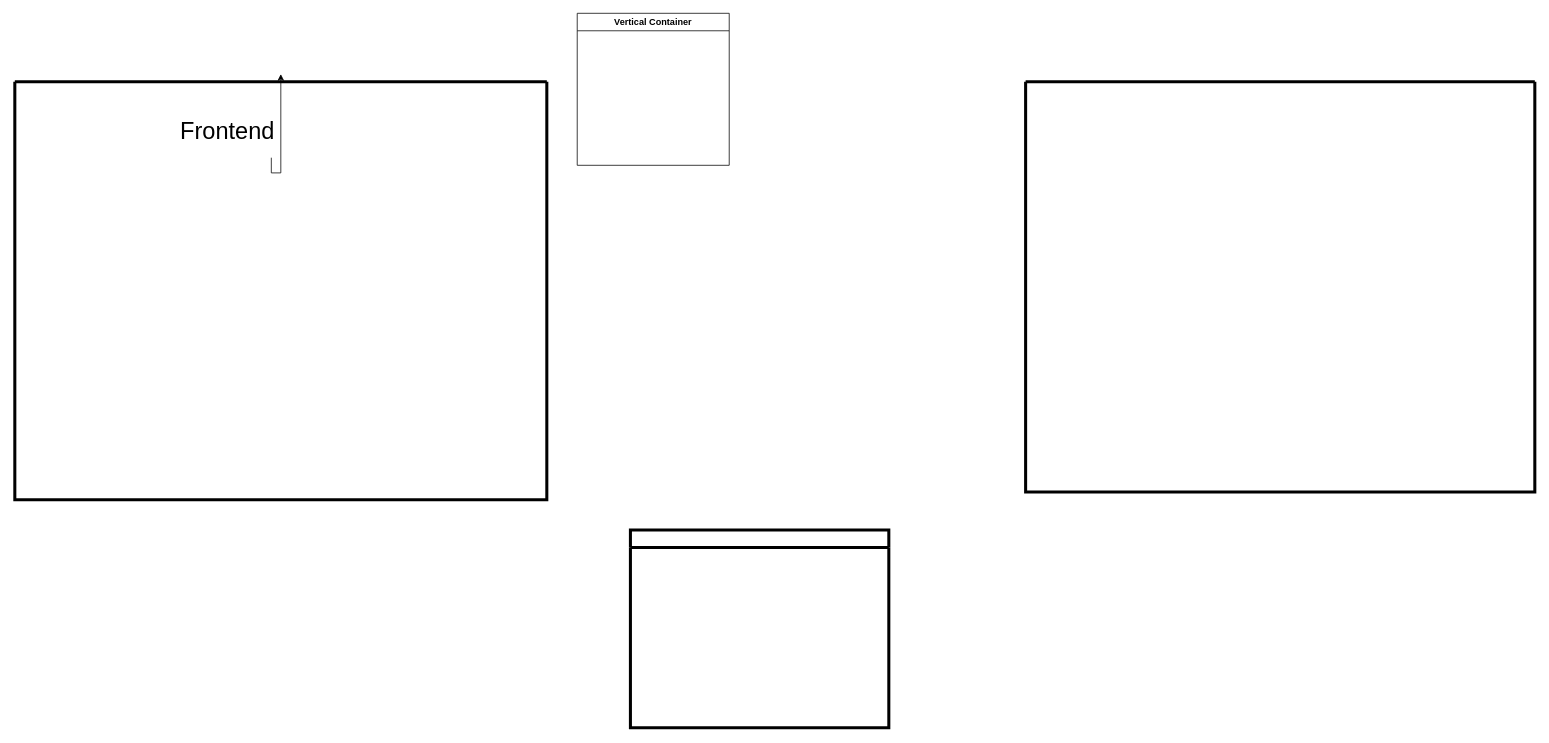
This 1549x743 diagram has some shape labels left out. Here are the shapes that lost their labels. From the top down, the box of each, then its label:
(1024, 80, 1536, 493): Backend
(629, 528, 890, 729): External API
